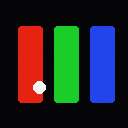2 circle: (33, 81, 45, 93)
